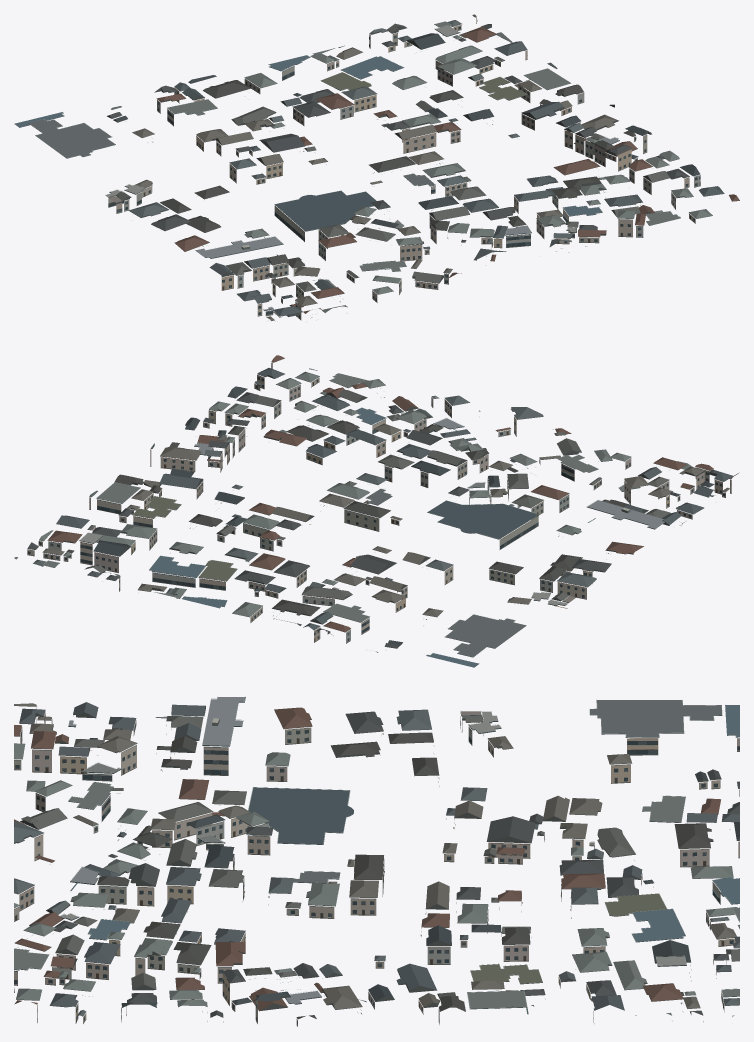
The picture shows the model from 3 angles, top to bottom: view 1: azimuth 30°, elevation 25°; view 2: azimuth 150°, elevation 25°; view 3: azimuth 270°, elevation 25°; orthographic projection. The views are drawn at different scales.
Visible parts, largest first — view 1: r7-c3; view 2: r7-c3; view 3: r7-c3.
Boxes of the visible parts, x1=… form: r7-c3: x1=14, y1=14, x2=739, y2=321; r7-c3: x1=14, y1=355, x2=739, y2=667; r7-c3: x1=14, y1=696, x2=739, y2=1026.
Bounding box in the file's own units: 250 × 15.73 × 250.
